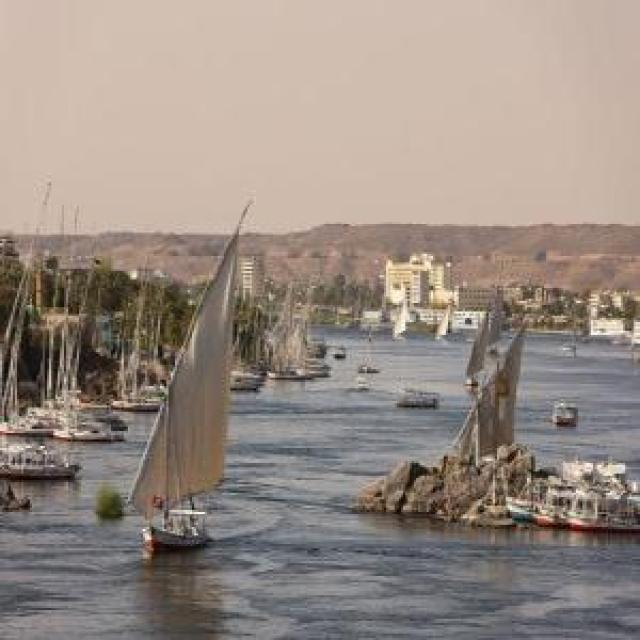houseboat: (514, 466, 640, 533), (392, 387, 443, 412), (551, 399, 580, 431)
sailboat: (126, 192, 258, 553)
